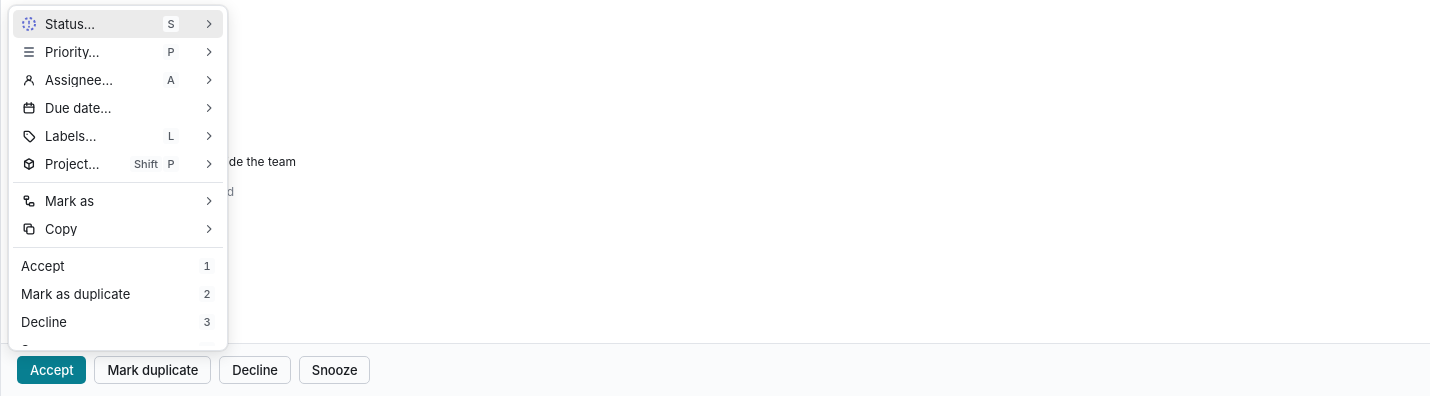
it: the pane context menu › runs its decisions through the priority guard the buttons use
This screenshot has width=1440, height=413.
Click the menu item "Accept 1".
click(43, 266)  # box x1=21 y1=258 x2=215 y2=274
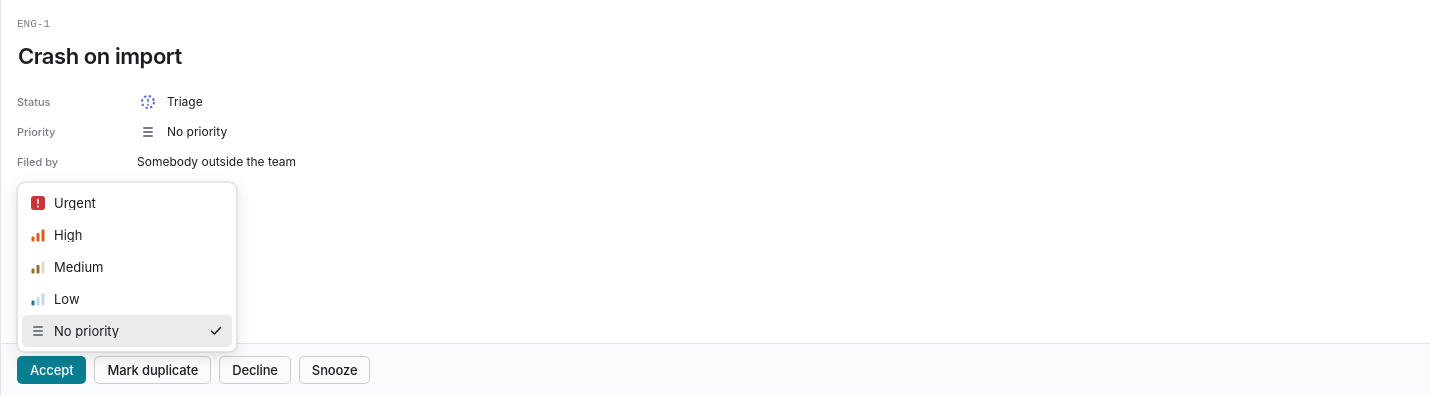
expect the menu "priority" is shown: met, box x1=22 y1=187 x2=232 y2=347
